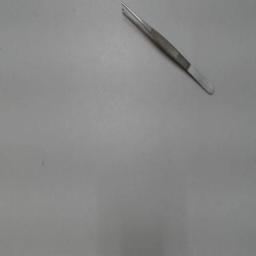Gillies Toothed Dissector: (117, 0, 219, 102)
